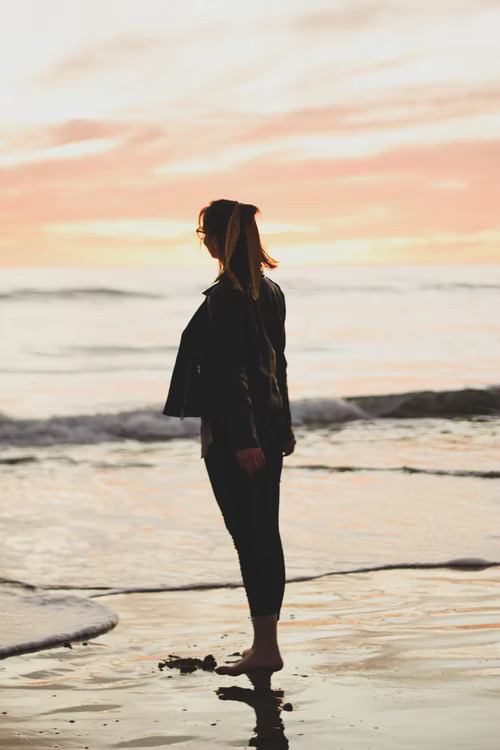person: (183, 200, 295, 671)
